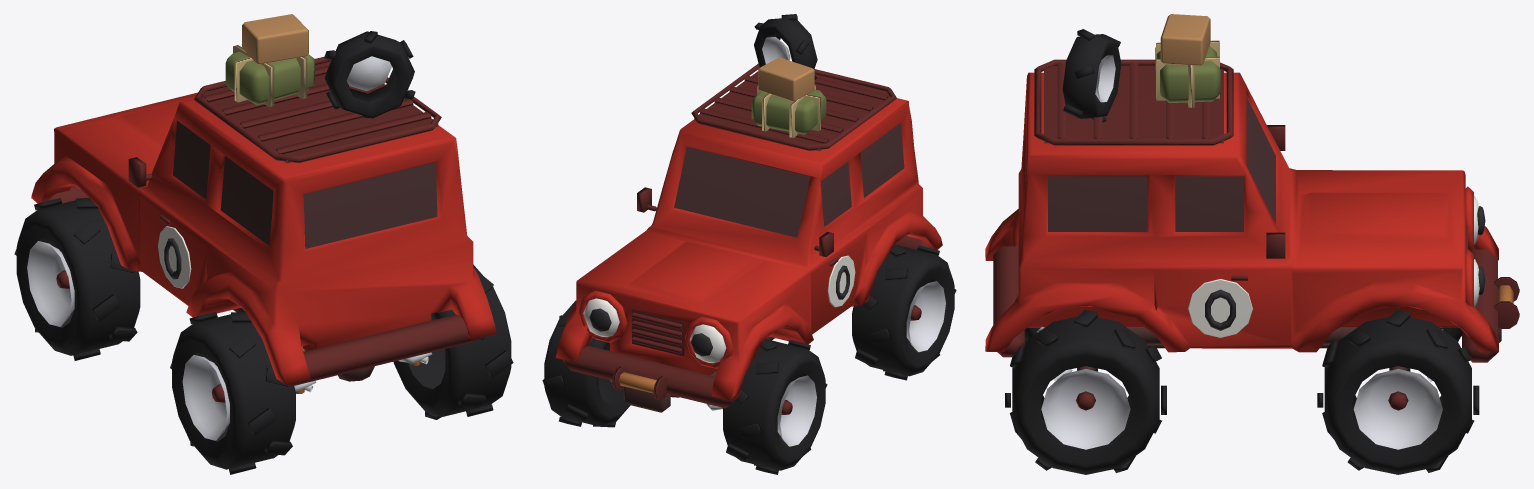
Rendered from red_jeep_game.glb.
3 renders of one model, left to right at view 1: azimuth 30°, elevation 25°; view 2: azimuth 150°, elevation 25°; view 3: azimuth 270°, elevation 25°, orthographic. The views are drawn at different scales.
Visible parts, largest first — view 1: car_body, wheel_FR, wheel_RR, wheel_RL; view 2: car_body, wheel_RR, wheel_FR, wheel_FL; view 3: car_body, wheel_FL, wheel_RL.
Part boxes in pixels (x1,y1,x2,y2): car_body: [31, 14, 496, 393]; wheel_FR: [14, 198, 140, 360]; wheel_RR: [170, 311, 295, 474]; wheel_RL: [393, 264, 513, 419]; car_body: [555, 14, 942, 412]; wheel_RR: [852, 244, 956, 380]; wheel_FR: [723, 338, 827, 474]; wheel_FL: [542, 300, 630, 427]; car_body: [985, 14, 1519, 382]; wheel_FL: [1317, 310, 1479, 474]; wheel_RL: [1005, 310, 1166, 474].
Size of the model in its own units: 2.68 by 3.65 by 4.45.
